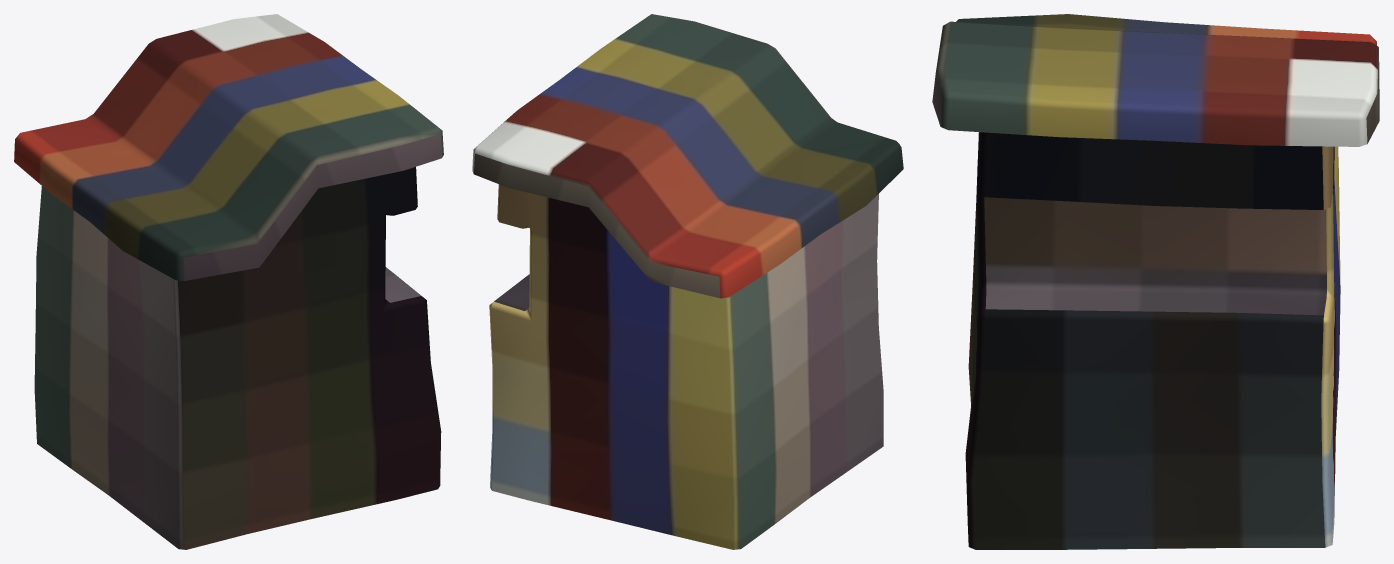
File: MSH_Building_015.glb
The picture shows the model from 3 angles, left to right: view 1: azimuth 30°, elevation 25°; view 2: azimuth 150°, elevation 25°; view 3: azimuth 270°, elevation 25°; orthographic projection. The views are drawn at different scales.
Visible parts, largest first — view 1: Base.005; view 2: Base.005; view 3: Base.005.
Part boxes in pixels (<box>): Base.005: <box>14,14,443,549</box>; Base.005: <box>472,14,903,549</box>; Base.005: <box>932,14,1379,549</box>.
Size of the model in its own units: 5.61 by 7.03 by 6.31.
Materials: 1 (1 with a texture image).
